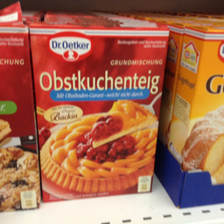cake: (28, 21, 169, 205)
